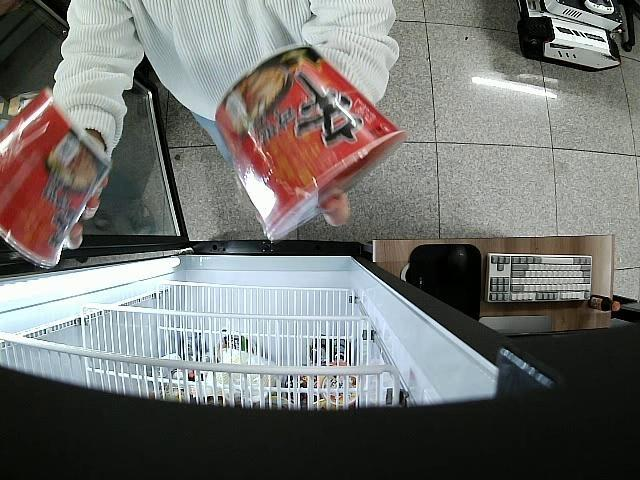01_ShinRamen_L: (214, 40, 409, 246), (0, 88, 111, 272)
